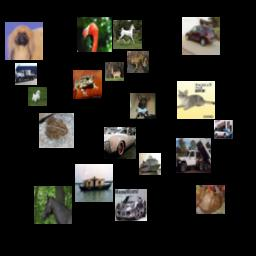automobile: (182, 17, 220, 55), (115, 189, 147, 221), (104, 127, 136, 159), (214, 120, 233, 139)
bird: (77, 17, 112, 52)
cat: (177, 81, 215, 119), (196, 185, 225, 214)
deer: (105, 62, 124, 81)
dog: (5, 22, 43, 60), (130, 93, 156, 119), (28, 87, 47, 106)
frog: (39, 113, 74, 148), (73, 70, 102, 99), (127, 51, 149, 73)
ship: (75, 164, 113, 202), (139, 153, 161, 175)
truck: (176, 138, 211, 173), (15, 63, 37, 85)
